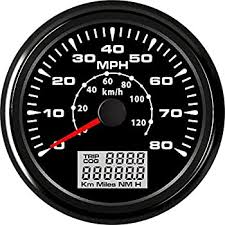Digital_Meter: (77, 151, 148, 189)
